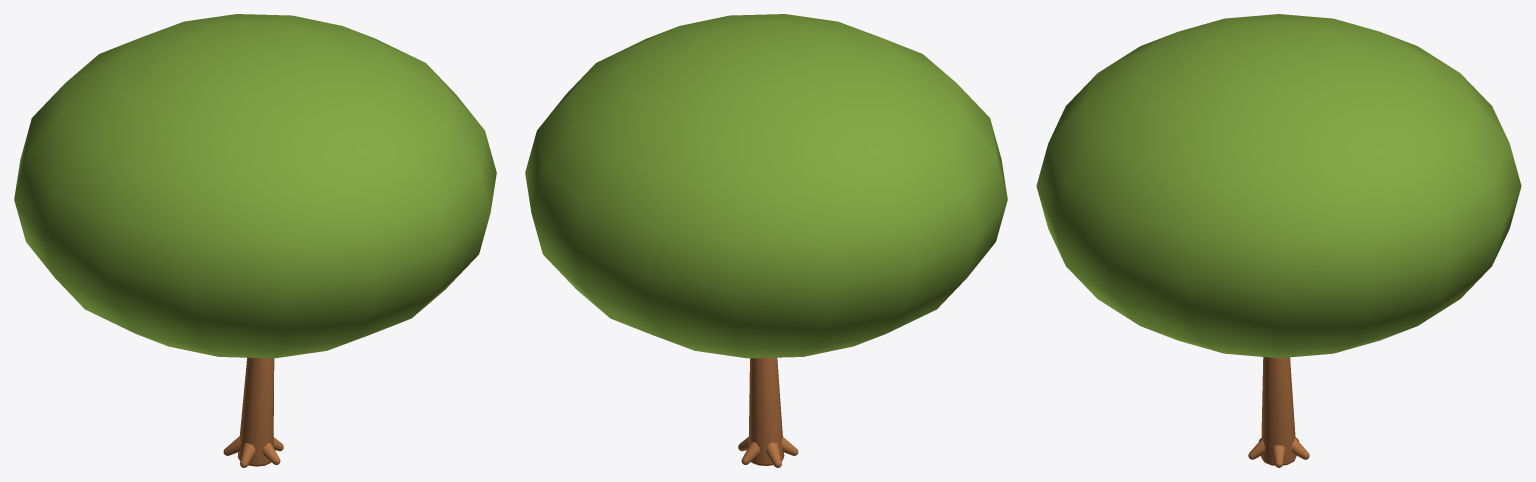
File: prop.street-tree.glb
The picture shows the model from 3 angles, left to right: view 1: azimuth 30°, elevation 25°; view 2: azimuth 150°, elevation 25°; view 3: azimuth 270°, elevation 25°; orthographic projection.
Parts seen in each view (by area): view 1: crownProxy, body, object 1; view 2: crownProxy, body, object 1; view 3: crownProxy, body, object 1.
Part boxes in pixels (x1,y1,x2,y2): crownProxy: [14, 14, 496, 358]; body: [237, 357, 274, 466]; object 1: [223, 436, 283, 467]; crownProxy: [525, 14, 1007, 358]; body: [748, 357, 784, 465]; object 1: [738, 436, 798, 467]; crownProxy: [1036, 14, 1521, 358]; body: [1261, 357, 1296, 465]; object 1: [1248, 437, 1309, 467].
Size of the model in its own units: 6.2 by 5.81 by 6.2.
